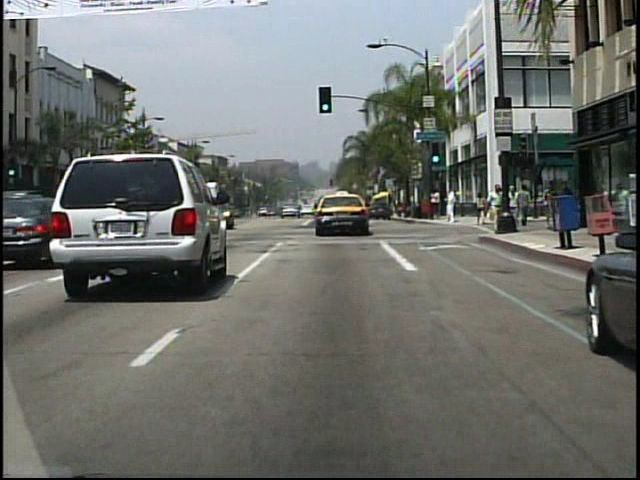person: (487, 184, 507, 233), (485, 181, 501, 236), (504, 183, 520, 231), (519, 183, 533, 229), (504, 190, 517, 226), (446, 188, 458, 224), (476, 191, 487, 228), (429, 186, 440, 219)
